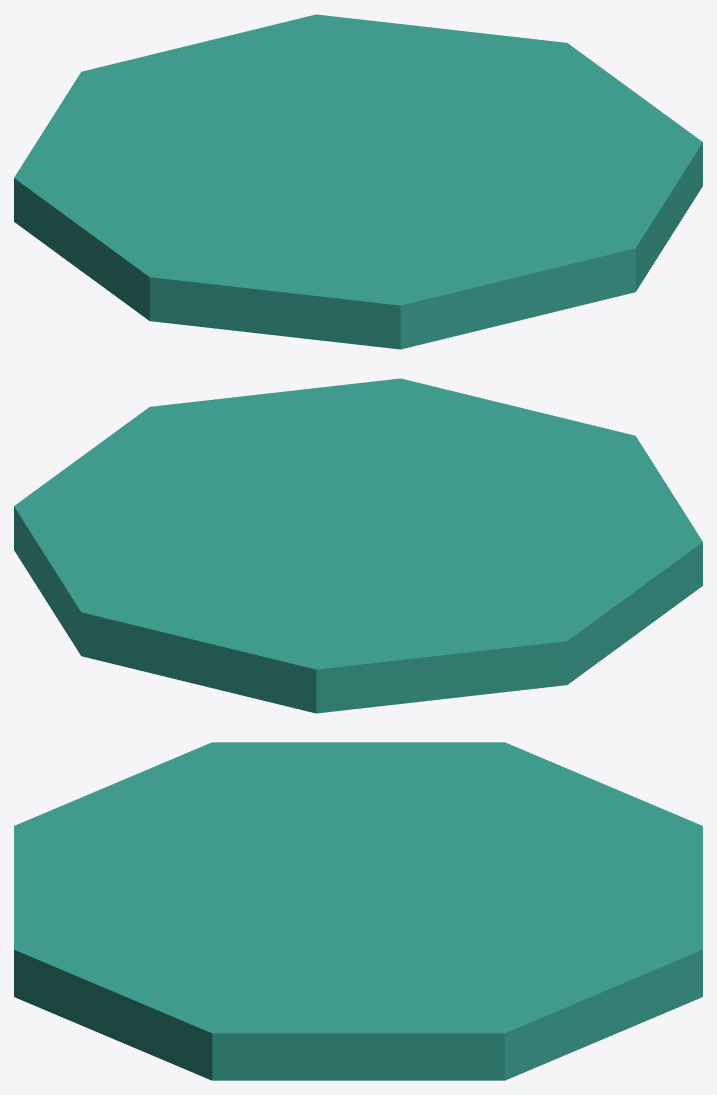
File: ocean.glb
3 views of the same model, one above another, from view 1: azimuth 30°, elevation 25°; view 2: azimuth 150°, elevation 25°; view 3: azimuth 270°, elevation 25° (orthographic). The views are drawn at different scales.
Visible parts, largest first — view 1: Object_238; view 2: Object_238; view 3: Object_238.
Part boxes in pixels (x1=…): Object_238: x1=14, y1=14, x2=702, y2=349; Object_238: x1=14, y1=378, x2=702, y2=713; Object_238: x1=14, y1=742, x2=702, y2=1080.
Bounding box in the file's own units: 479 × 36.32 × 479.
